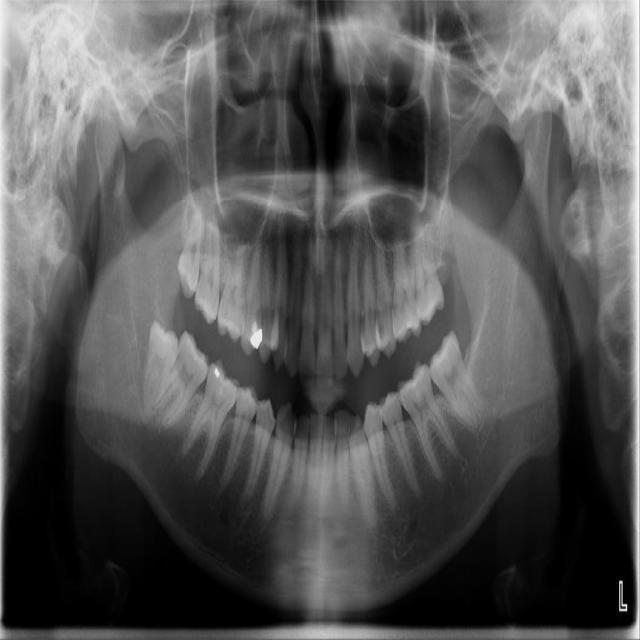Filling: (249, 328, 262, 349), (215, 368, 220, 378)
impacted tooth: (144, 324, 181, 417)
